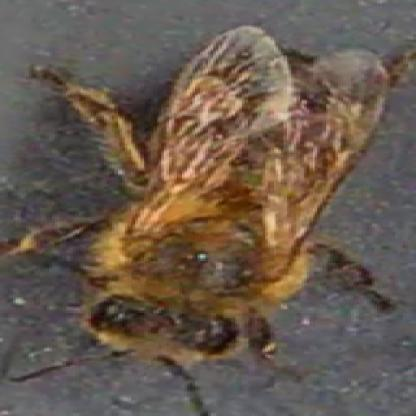bee: (78, 26, 366, 366)
